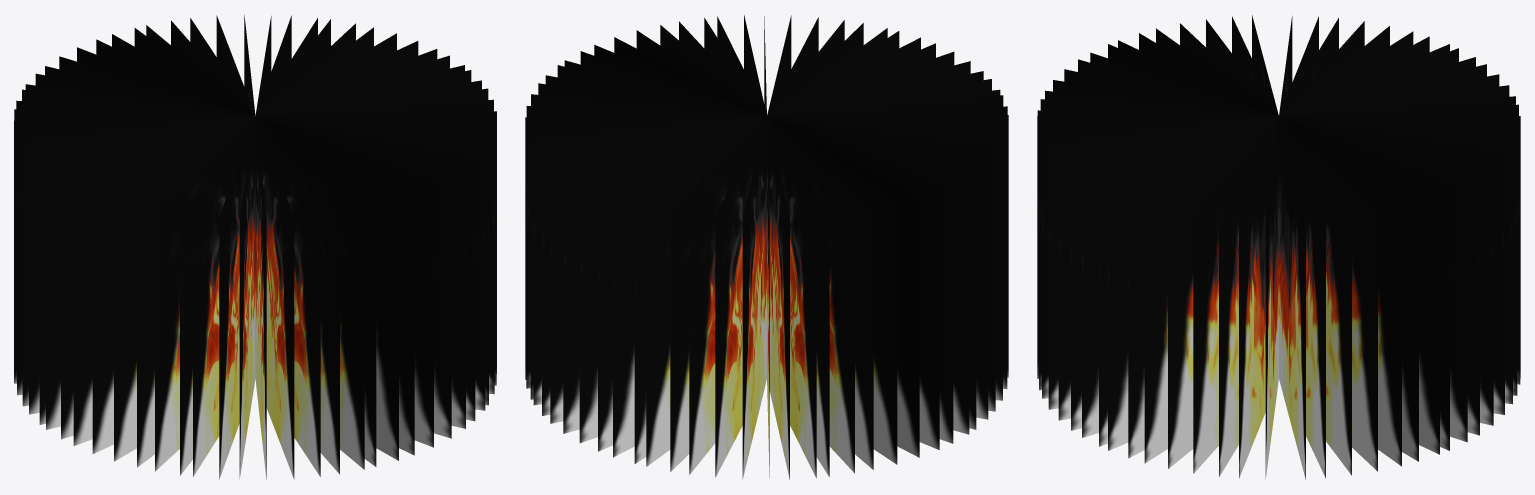
Rendered from explosion.gltf.
3 views of the same model, side by side, from view 1: azimuth 30°, elevation 25°; view 2: azimuth 150°, elevation 25°; view 3: azimuth 270°, elevation 25° (orthographic).
Parts seen in each view (by area): view 1: Explosion; view 2: Explosion; view 3: Explosion.
Boxes of the visible parts, box(x1,y1,x2,y2) form: Explosion: box(14, 15, 496, 479); Explosion: box(525, 15, 1008, 479); Explosion: box(1037, 15, 1520, 479).
Bounding box in the file's own units: 0.2824 × 0.1694 × 0.2824.
1 material, 1 textured.
